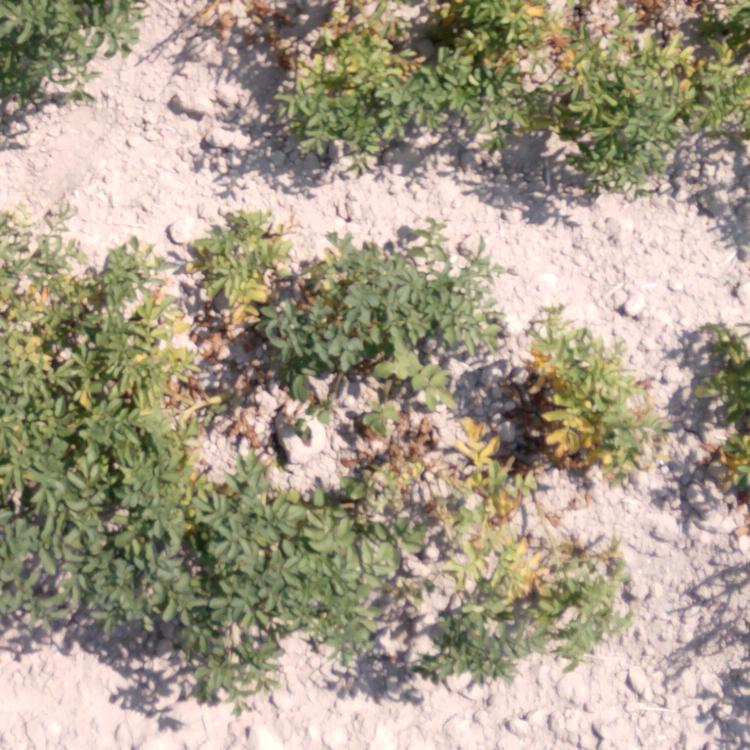healthy: (1, 428, 173, 623), (195, 490, 354, 680), (297, 242, 473, 374), (1, 5, 126, 107)
stressed: (416, 525, 604, 696), (4, 233, 171, 415), (570, 6, 749, 161), (520, 317, 664, 466), (276, 13, 411, 156), (433, 1, 556, 136), (370, 405, 514, 519), (177, 212, 288, 348), (705, 316, 750, 502), (179, 349, 265, 430)
